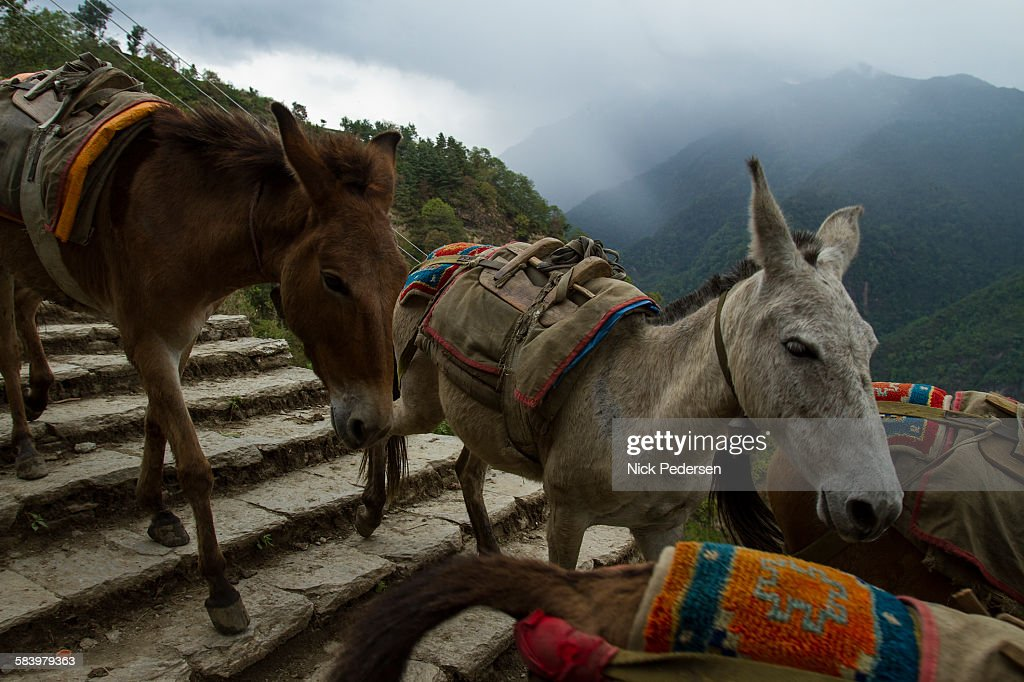equine: (1, 43, 425, 663), (398, 130, 929, 571)
